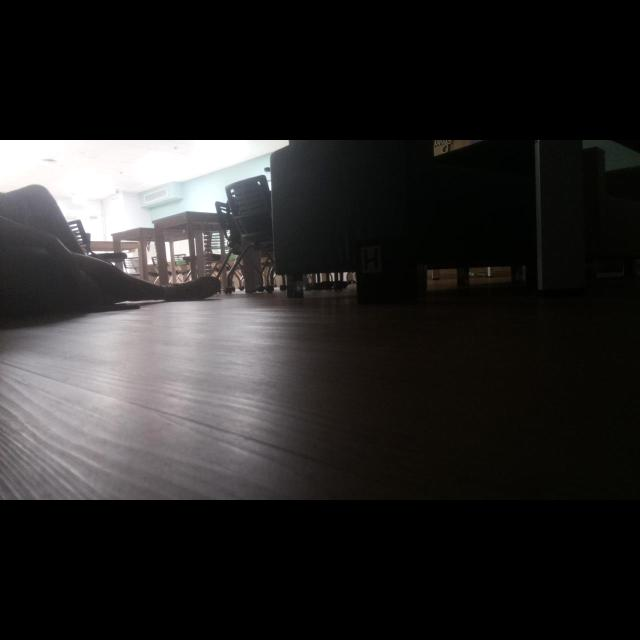H: (364, 248, 378, 271)
